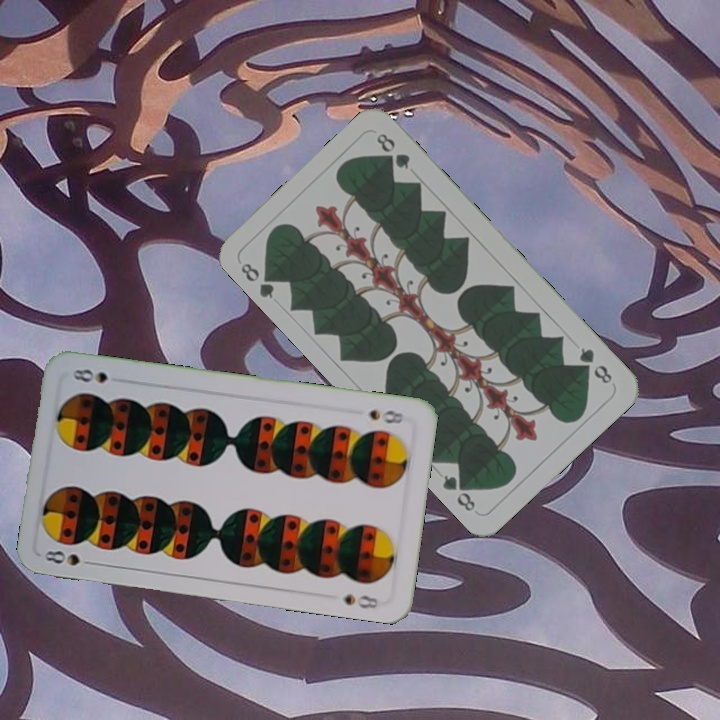G8: (236, 258, 281, 301), (575, 343, 615, 387)
S8: (40, 546, 83, 569), (365, 405, 407, 427)
